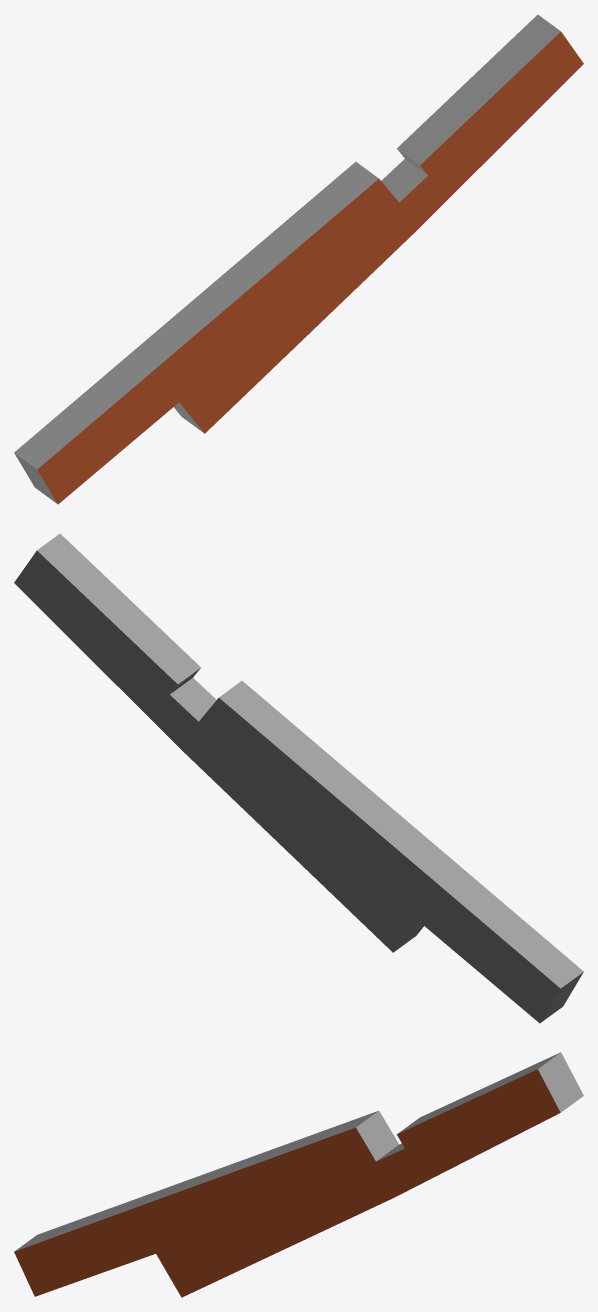
File: construction_0999_assumed_A_Casa_h6m.obj
The picture shows the model from 3 angles, top to bottom: view 1: azimuth 30°, elevation 25°; view 2: azimuth 150°, elevation 25°; view 3: azimuth 330°, elevation 25°; orthographic projection.
Visible parts, largest first — view 1: construction_0999_assumed_A_Casa; view 2: construction_0999_assumed_A_Casa; view 3: construction_0999_assumed_A_Casa.
Boxes of the visible parts, x1,y1,x2,y2 form: construction_0999_assumed_A_Casa: (14,14,583,504); construction_0999_assumed_A_Casa: (14,533,583,1023); construction_0999_assumed_A_Casa: (14,1052,583,1297).
Bounding box in the file's own units: 81.49 × 49.91 × 6.
